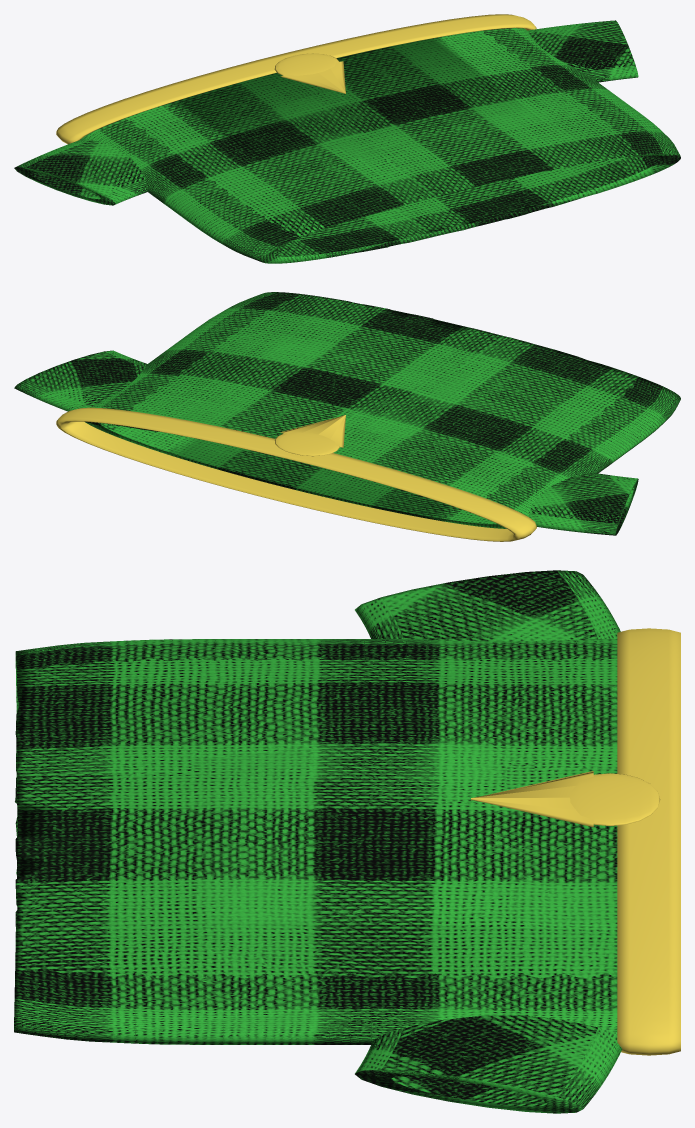
Rendered from farmshirt3.fbx.
3 views of the same model, one above another, from view 1: azimuth 30°, elevation 25°; view 2: azimuth 150°, elevation 25°; view 3: azimuth 270°, elevation 25° (orthographic). The views are drawn at different scales.
Visible parts, largest first — view 1: farmshirt3; view 2: farmshirt3; view 3: farmshirt3.
Boxes of the visible parts, left/top/right/bottom form: farmshirt3: left=14, top=14, right=680, bottom=263; farmshirt3: left=14, top=292, right=680, bottom=541; farmshirt3: left=14, top=570, right=680, bottom=1113.
Bounding box in the file's own units: 1.14 × 0.0865 × 0.5991.
Materials: 2 (1 with a texture image).
